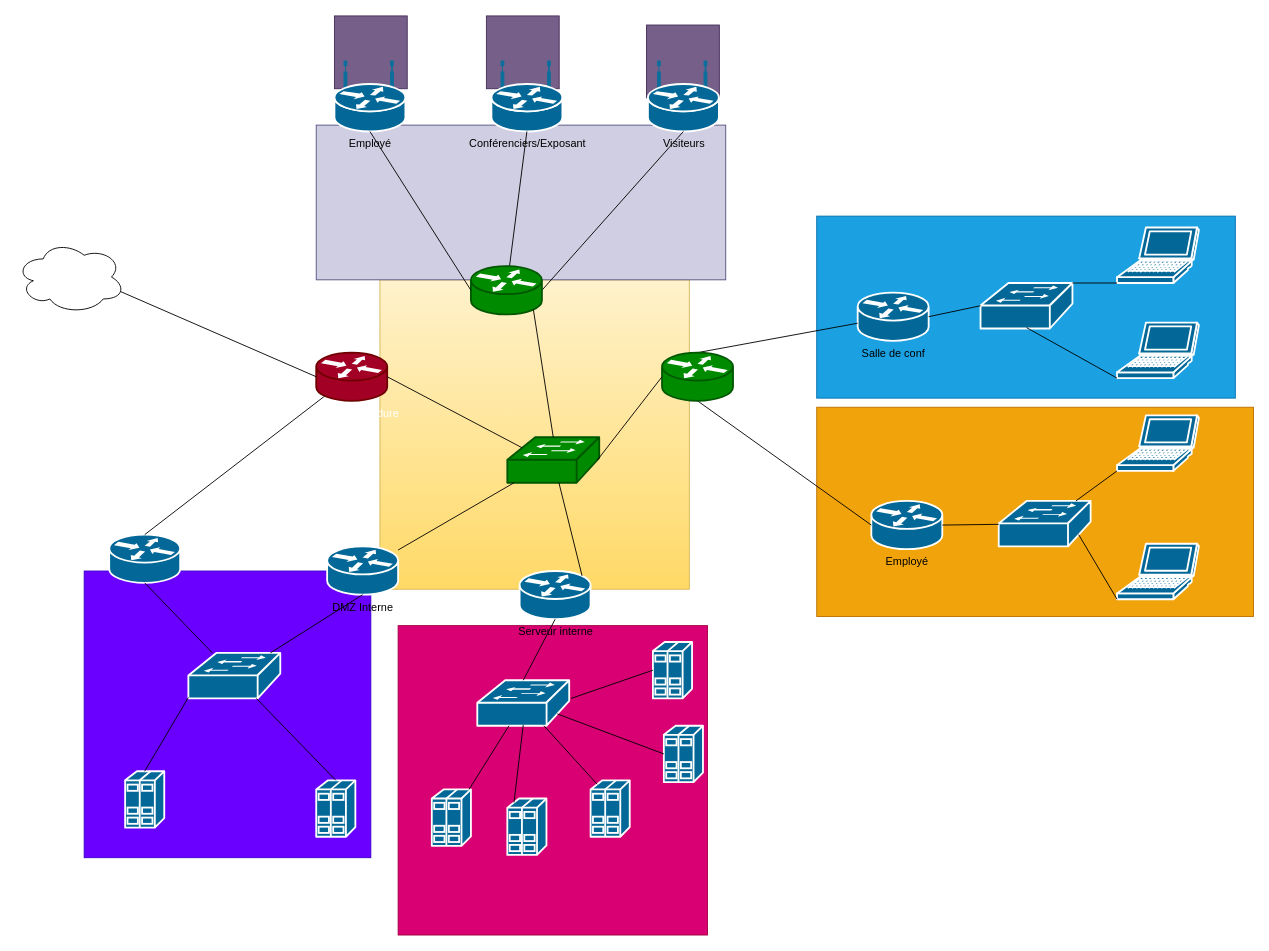
The diagram is 1269 pixels wide and 951 high, and some of its shapes have lost their labels. Each missing label, with the centre of its shape:
"Coeur de réseau" belongs at [553,459].
"Coeur de station" belongs at [697,376].
"Coeur de wifi" belongs at [506,290].
"Dmz Externe" belongs at [144,558].
